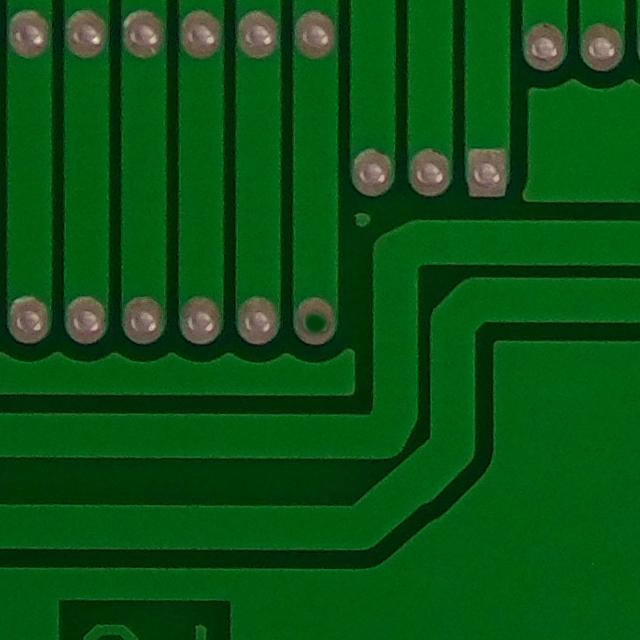missing_hole: (294, 288, 346, 352)
